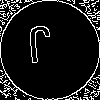J: (25, 25, 55, 73)
